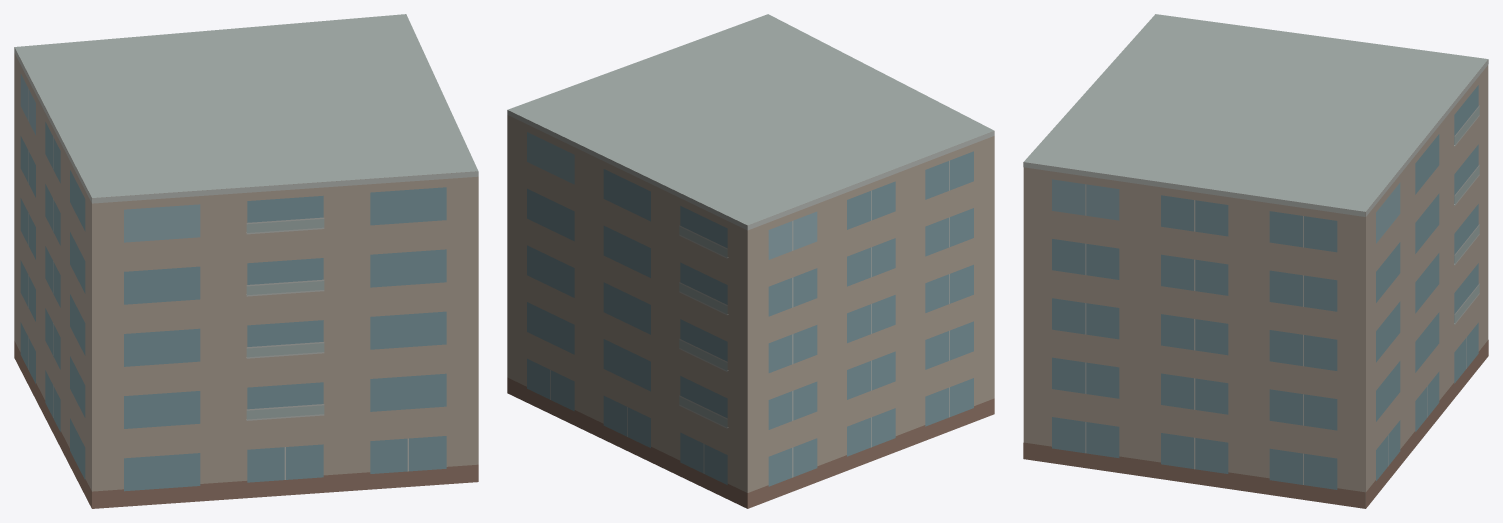
The model's file is survey-upis-32507019.glb.
3 views of the same model, side by side, from view 1: azimuth 30°, elevation 25°; view 2: azimuth 150°, elevation 25°; view 3: azimuth 270°, elevation 25° (orthographic). The views are drawn at different scales.
Visible parts, largest first — view 1: survey-upis-32507019.tmp; view 2: survey-upis-32507019.tmp; view 3: survey-upis-32507019.tmp.
Boxes of the visible parts, bbox=[...] form: survey-upis-32507019.tmp: bbox=[14, 14, 478, 508]; survey-upis-32507019.tmp: bbox=[507, 14, 994, 508]; survey-upis-32507019.tmp: bbox=[1023, 14, 1488, 508].
Bounding box in the file's own units: 19.73 × 13.8 × 19.59.
